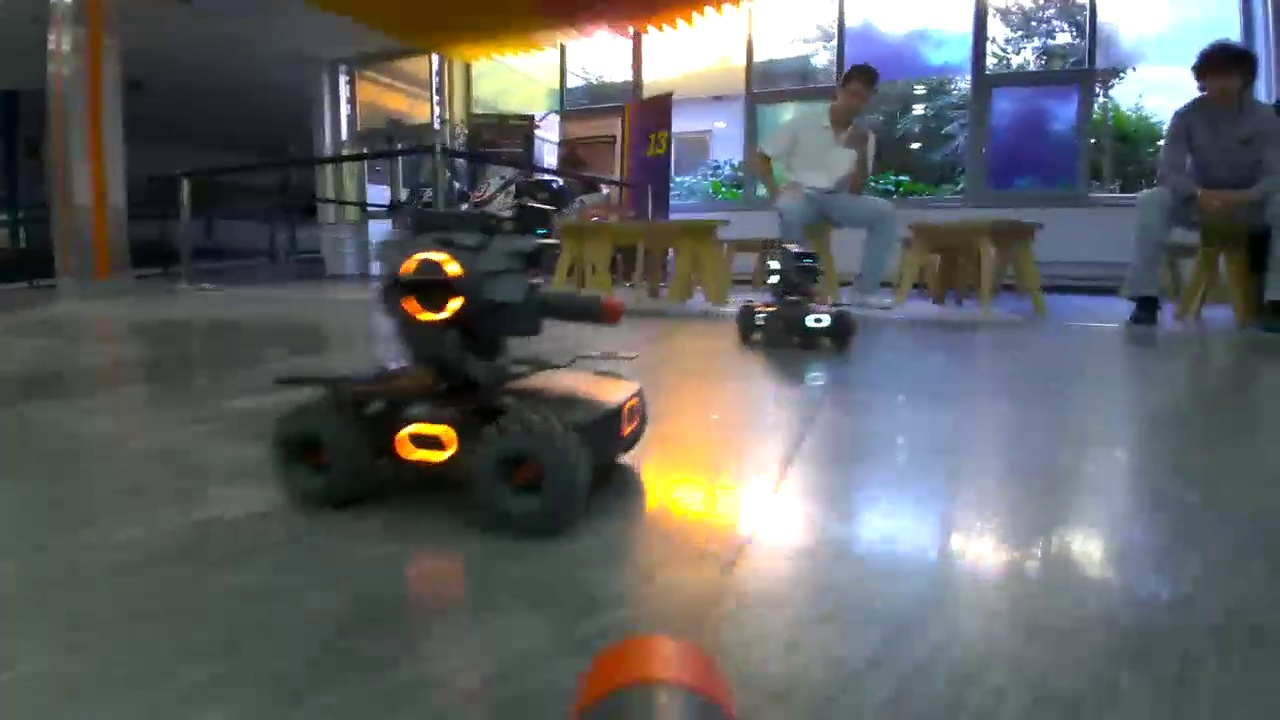robot: (272, 250, 645, 535), (738, 252, 855, 375)
